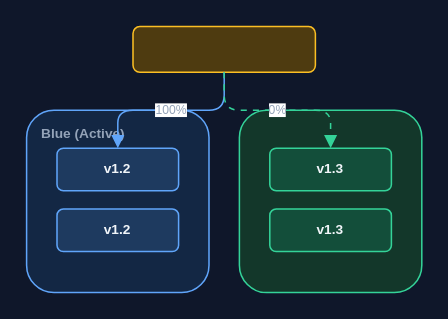
Some shapes in this 448 by 319 pixel diagram are drawn without their labels. The box of each missing label's shape, as (x1, y1, x2, y2) in pixels:
Green (Idle): (238, 109, 422, 293)
LB / Router: (131, 25, 315, 72)
